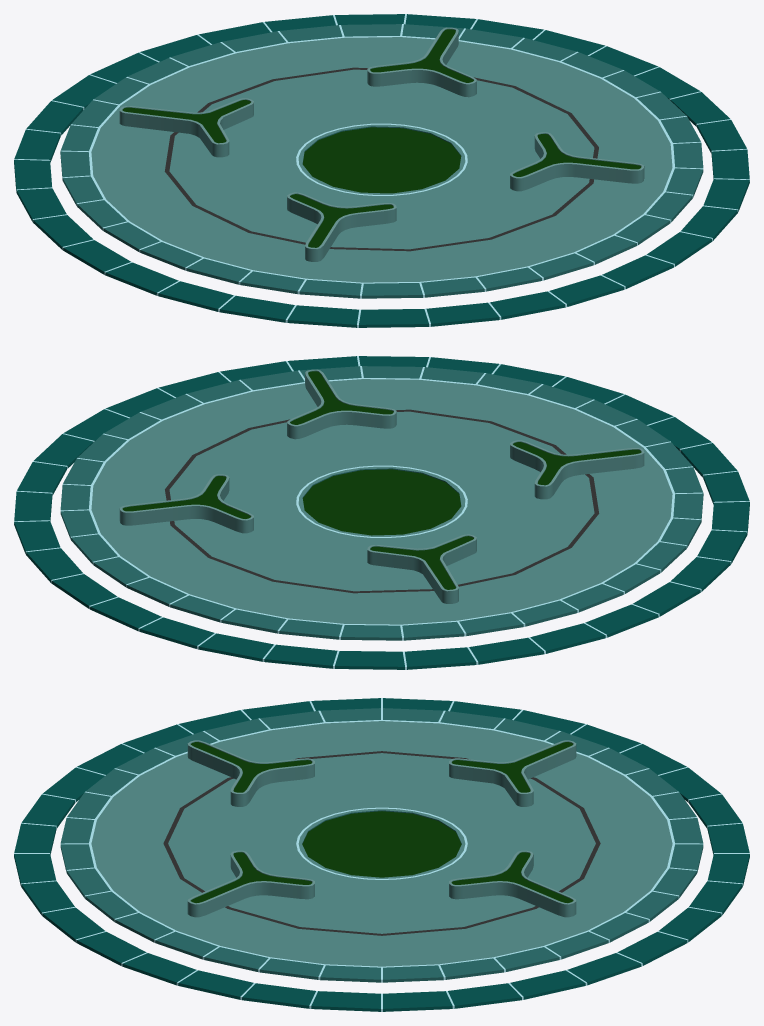
The model's file is W_O_Forum_Flowerbed_002_L1.fbx.
The picture shows the model from 3 angles, top to bottom: view 1: azimuth 30°, elevation 25°; view 2: azimuth 150°, elevation 25°; view 3: azimuth 270°, elevation 25°; orthographic projection.
Parts seen in each view (by area): view 1: W_O_Forum_Flowerbed_002_L1; view 2: W_O_Forum_Flowerbed_002_L1; view 3: W_O_Forum_Flowerbed_002_L1.
Part boxes in pixels (x1,y1,x2,y2): W_O_Forum_Flowerbed_002_L1: (14,14,749,327); W_O_Forum_Flowerbed_002_L1: (14,356,749,669); W_O_Forum_Flowerbed_002_L1: (14,698,749,1011).
Size of the model in its own units: 13.8 by 13.8 by 0.7076.
